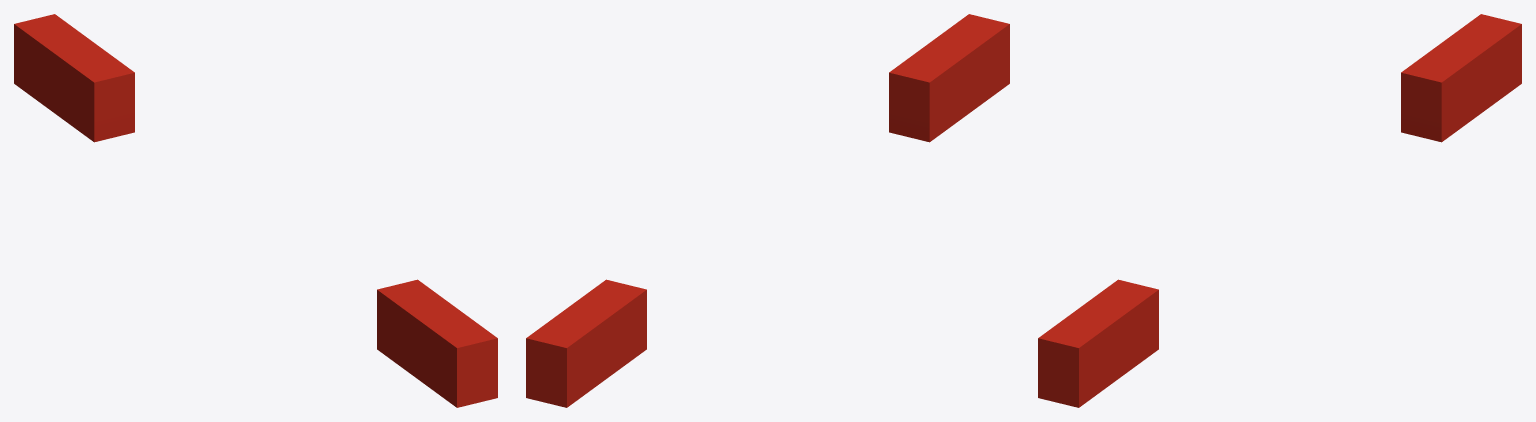
File: RearLights.glb
3 renders of one model, left to right at view 1: azimuth 30°, elevation 25°; view 2: azimuth 150°, elevation 25°; view 3: azimuth 330°, elevation 25°, orthographic.
Visible parts, largest first — view 1: Cube.054; view 2: Cube.054; view 3: Cube.054.
Part boxes in pixels (x1,y1,x2,y2): Cube.054: [14, 14, 497, 407]; Cube.054: [526, 14, 1009, 407]; Cube.054: [1038, 14, 1521, 407].
Size of the model in its own units: 0.00323 by 0.00452 by 0.0606.
1 material, 1 textured.
